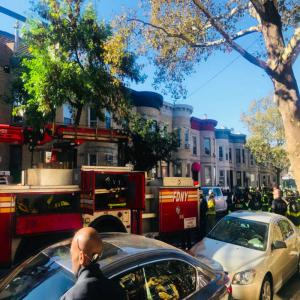none: (67, 224, 108, 278), (274, 189, 282, 199)
white: (208, 189, 216, 200)
